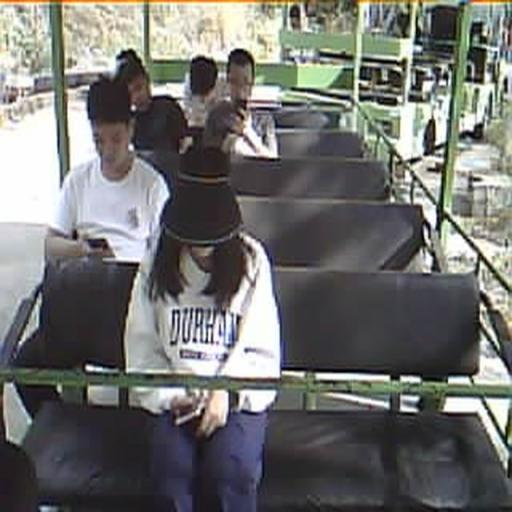persona: (123, 144, 283, 510), (46, 77, 172, 262), (202, 47, 280, 158), (112, 49, 192, 152), (182, 54, 224, 129)
